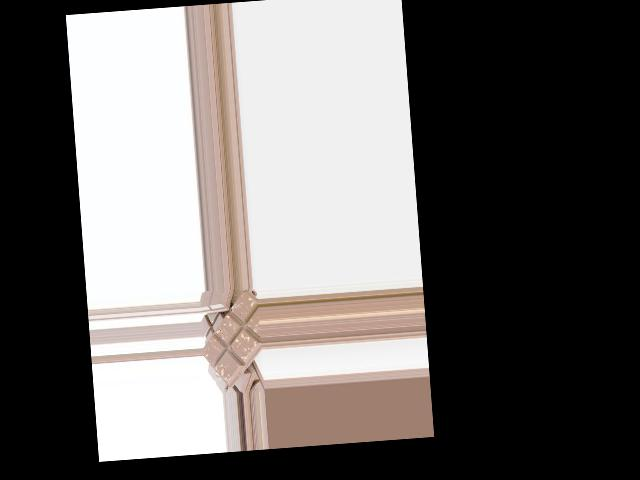chocolate: (200, 290, 264, 382)
